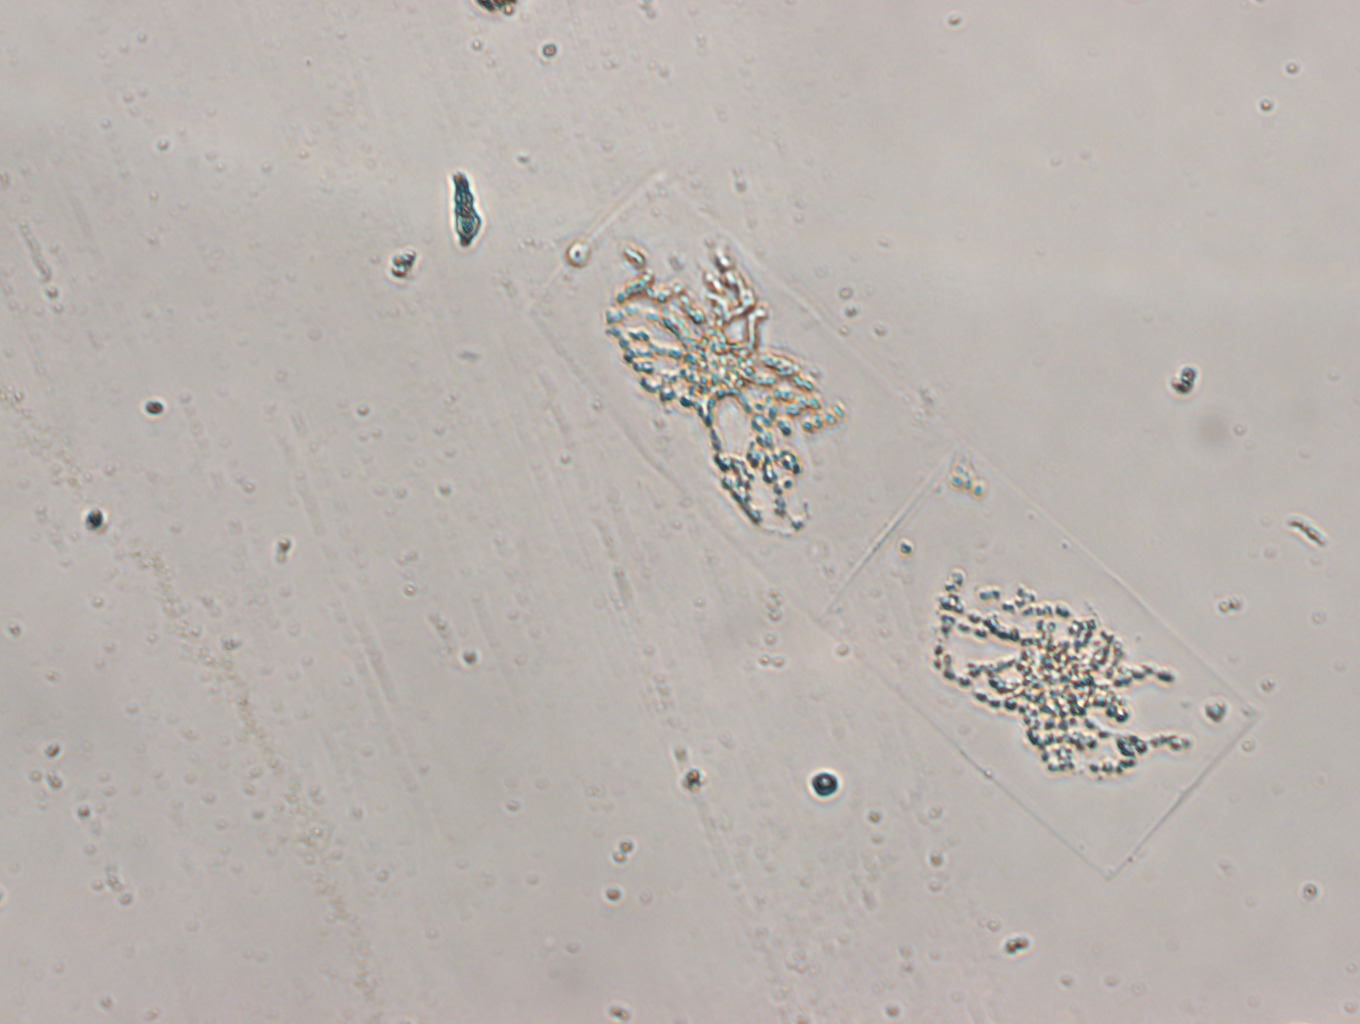helicotheca: (521, 165, 1264, 879)
